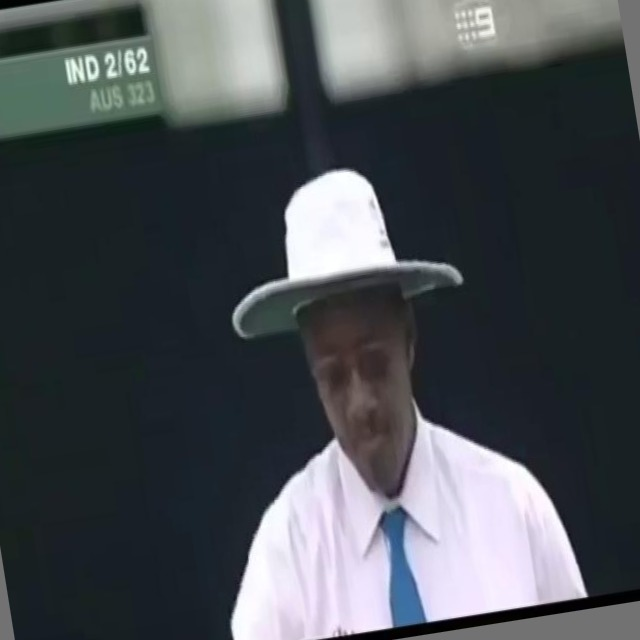No_Action: (148, 129, 602, 640)
